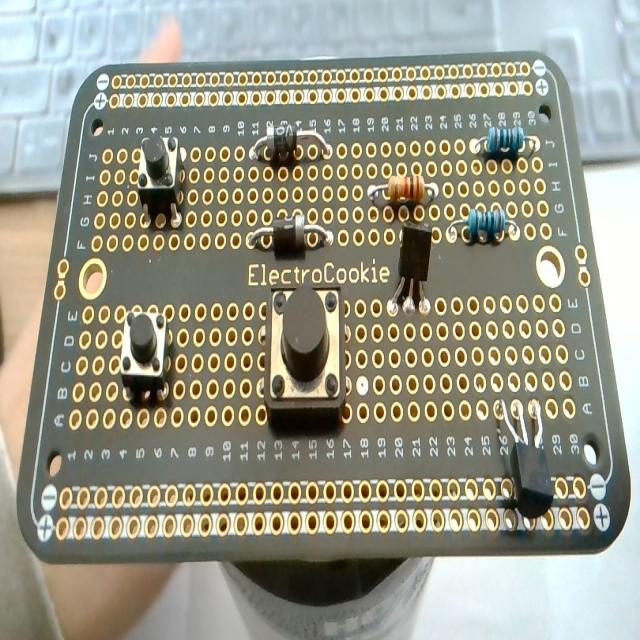diode: (248, 121, 333, 163), (248, 213, 334, 253), (367, 178, 437, 212)
resistor: (485, 124, 525, 159), (469, 206, 505, 243)
switch: (263, 282, 347, 420), (120, 307, 170, 401), (137, 134, 185, 227)
transistor: (496, 396, 555, 520), (387, 212, 437, 316)
